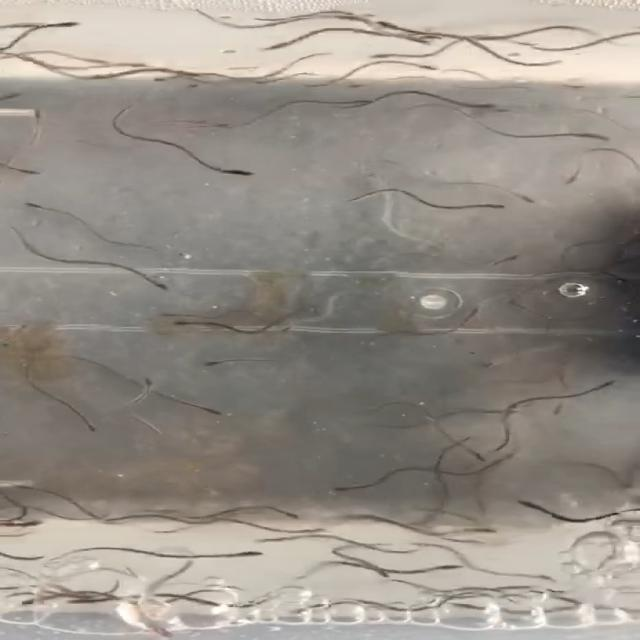active_glass_eel: (460, 97, 514, 115), (570, 127, 616, 147), (211, 164, 256, 182), (21, 102, 63, 121), (556, 168, 594, 187), (180, 73, 220, 91), (329, 476, 369, 494), (132, 376, 169, 395), (480, 356, 517, 374), (43, 18, 82, 35), (65, 54, 112, 68), (340, 93, 380, 109), (0, 517, 45, 531), (257, 37, 291, 55), (371, 16, 404, 34), (64, 595, 108, 608), (0, 162, 40, 176), (17, 591, 48, 609), (368, 46, 400, 62), (410, 60, 442, 76), (468, 521, 500, 537), (230, 546, 266, 560), (145, 68, 178, 83), (490, 252, 525, 266), (269, 505, 301, 520), (1, 86, 31, 102), (0, 478, 32, 493), (509, 190, 543, 204), (157, 308, 190, 322), (21, 198, 48, 215), (460, 306, 488, 322), (432, 560, 464, 574), (446, 596, 474, 612), (549, 396, 571, 416), (177, 114, 210, 127), (144, 276, 172, 291), (195, 406, 230, 418), (206, 119, 236, 133), (479, 199, 511, 212), (149, 627, 181, 640), (466, 447, 490, 463), (514, 498, 542, 511), (561, 80, 594, 91), (527, 572, 556, 584), (343, 79, 372, 91), (169, 316, 200, 327), (592, 379, 622, 390), (204, 357, 229, 370), (302, 524, 329, 536), (302, 78, 328, 90), (79, 420, 99, 435), (370, 567, 389, 580), (619, 92, 640, 101)
